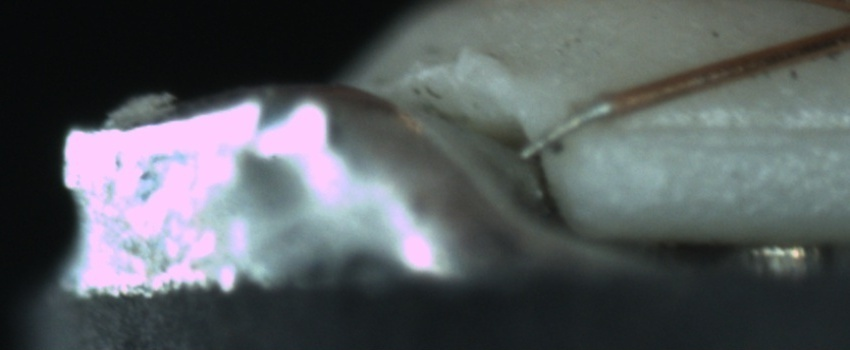DL: (612, 97, 846, 164)
TS: (516, 101, 616, 161)
TTCW: (505, 87, 637, 164)
